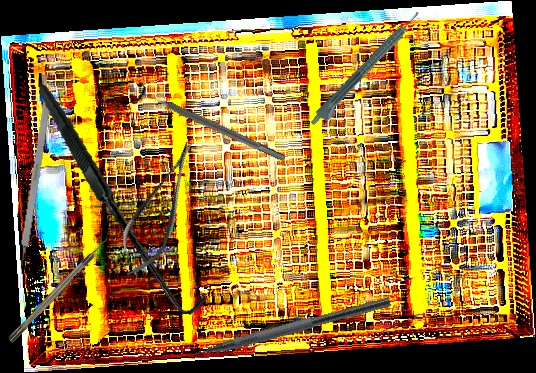Chopper: (167, 281, 394, 369)
Fixation Ring: (128, 79, 291, 171)
Handpiece: (308, 9, 427, 132)
Hook Surgical: (11, 82, 232, 317), (7, 236, 111, 343), (15, 99, 52, 281)
Micro Scissor: (107, 134, 212, 285)
